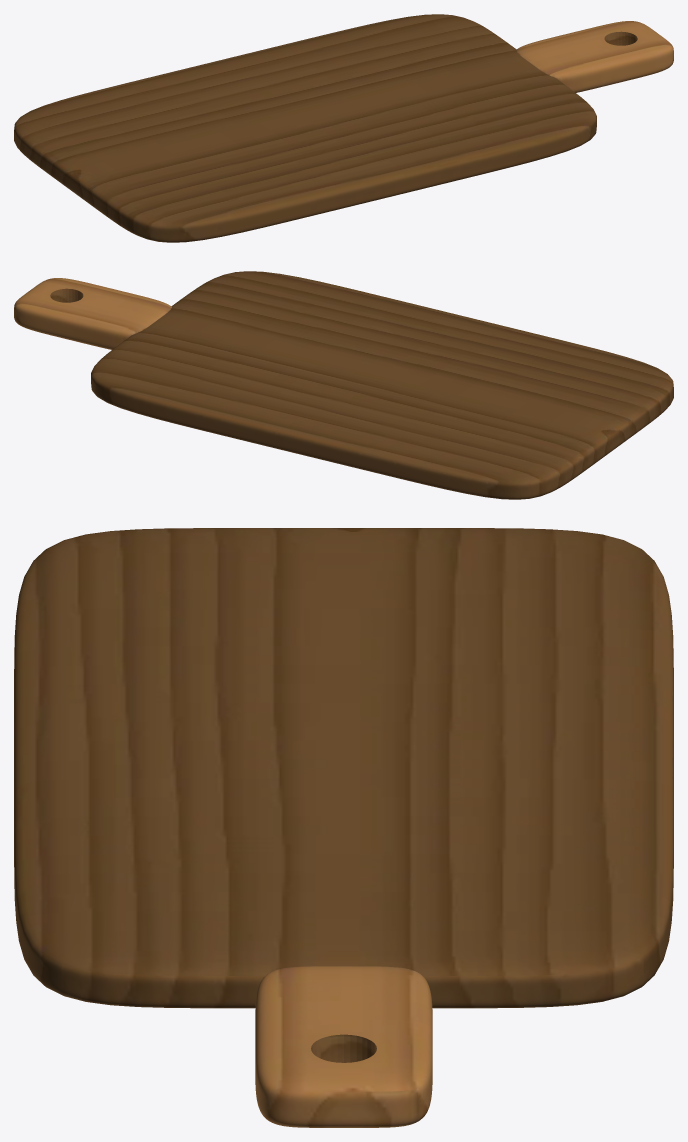
File: oak-paddle.glb
3 views of the same model, one above another, from view 1: azimuth 30°, elevation 25°; view 2: azimuth 150°, elevation 25°; view 3: azimuth 270°, elevation 25° (orthographic). The views are drawn at different scales.
Parts seen in each view (by area): view 1: board_wood; view 2: board_wood; view 3: board_wood.
Boxes of the visible parts, box(x1,y1,x2,y2) form: board_wood: box(14, 14, 673, 242); board_wood: box(14, 271, 673, 499); board_wood: box(14, 528, 673, 1127).
Bounding box in the file's own units: 0.53 × 0.022 × 0.26.
1 material, 1 textured.
